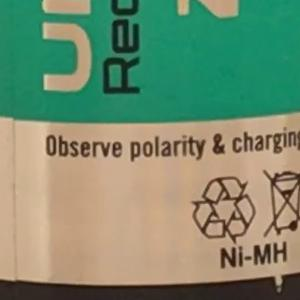NI-MH: (210, 231, 297, 279)
